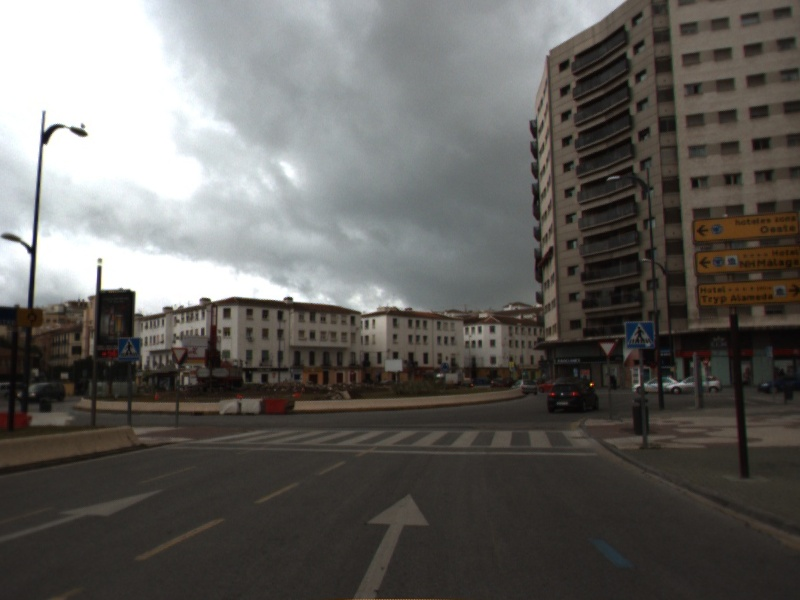STRAIGHT: (1, 484, 170, 551), (347, 488, 434, 600)
